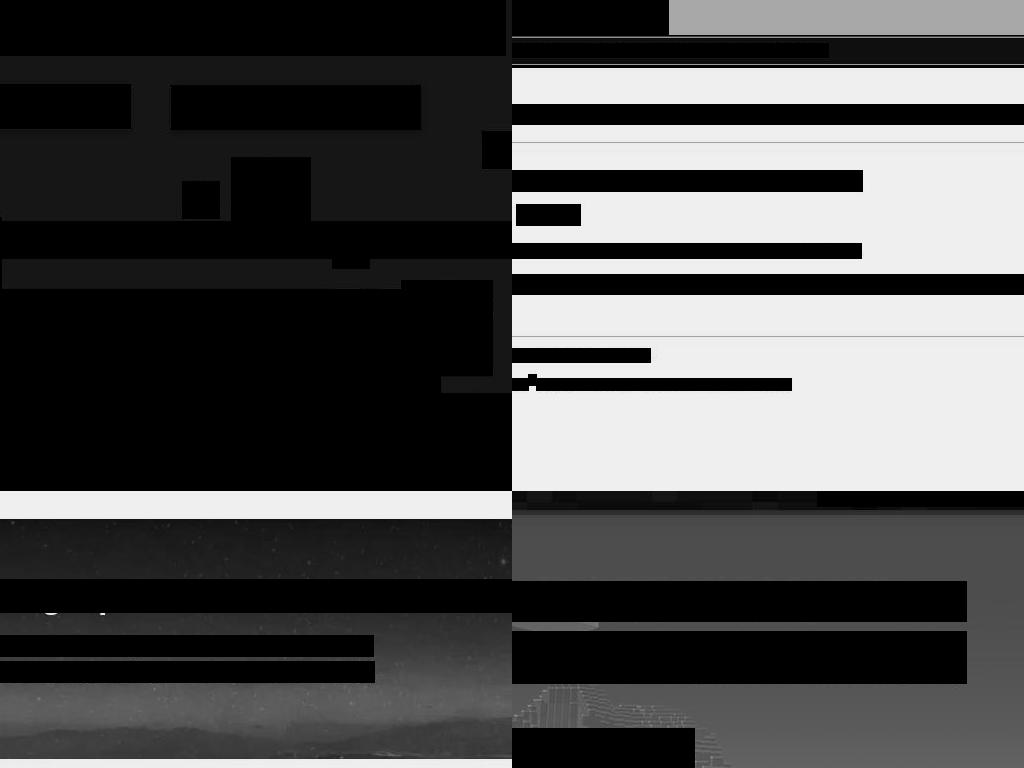button: (171, 85, 421, 130), (512, 728, 695, 768), (708, 43, 829, 58), (566, 43, 627, 58), (640, 43, 695, 58), (512, 43, 552, 58)
field: (512, 170, 863, 192), (516, 204, 581, 226)
heading: (512, 581, 967, 622), (512, 104, 1024, 125)
image: (0, 289, 441, 491), (147, 409, 512, 491), (0, 431, 512, 469), (0, 221, 512, 259), (401, 280, 493, 376), (438, 393, 512, 491), (231, 157, 311, 238), (512, 65, 1024, 68), (182, 181, 220, 219), (332, 231, 370, 269), (252, 291, 290, 329), (482, 131, 512, 169)
link: (512, 348, 651, 363)
text: (0, 0, 506, 56), (512, 631, 967, 684), (0, 579, 512, 613), (171, 85, 421, 130), (512, 274, 1024, 295), (0, 661, 375, 683), (0, 635, 374, 657), (0, 84, 131, 129), (512, 243, 862, 259), (536, 378, 792, 391), (552, 43, 567, 58), (626, 43, 641, 58), (694, 43, 709, 58), (512, 378, 529, 391), (528, 374, 537, 386)
